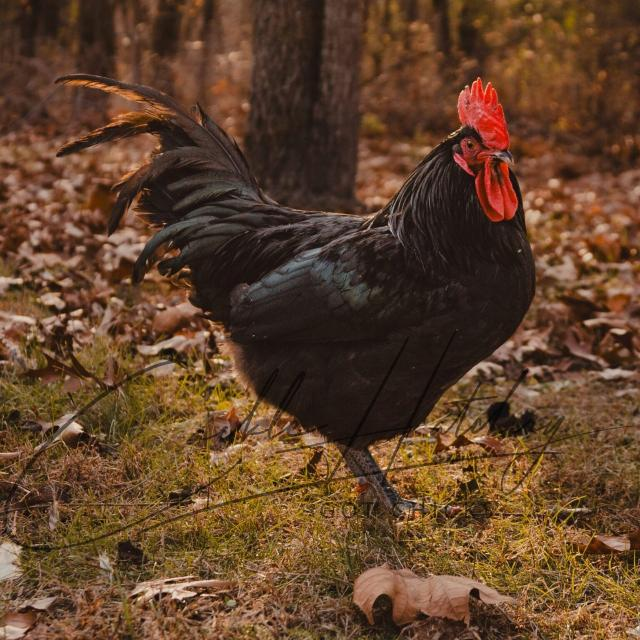Chicken: (51, 72, 537, 520)
